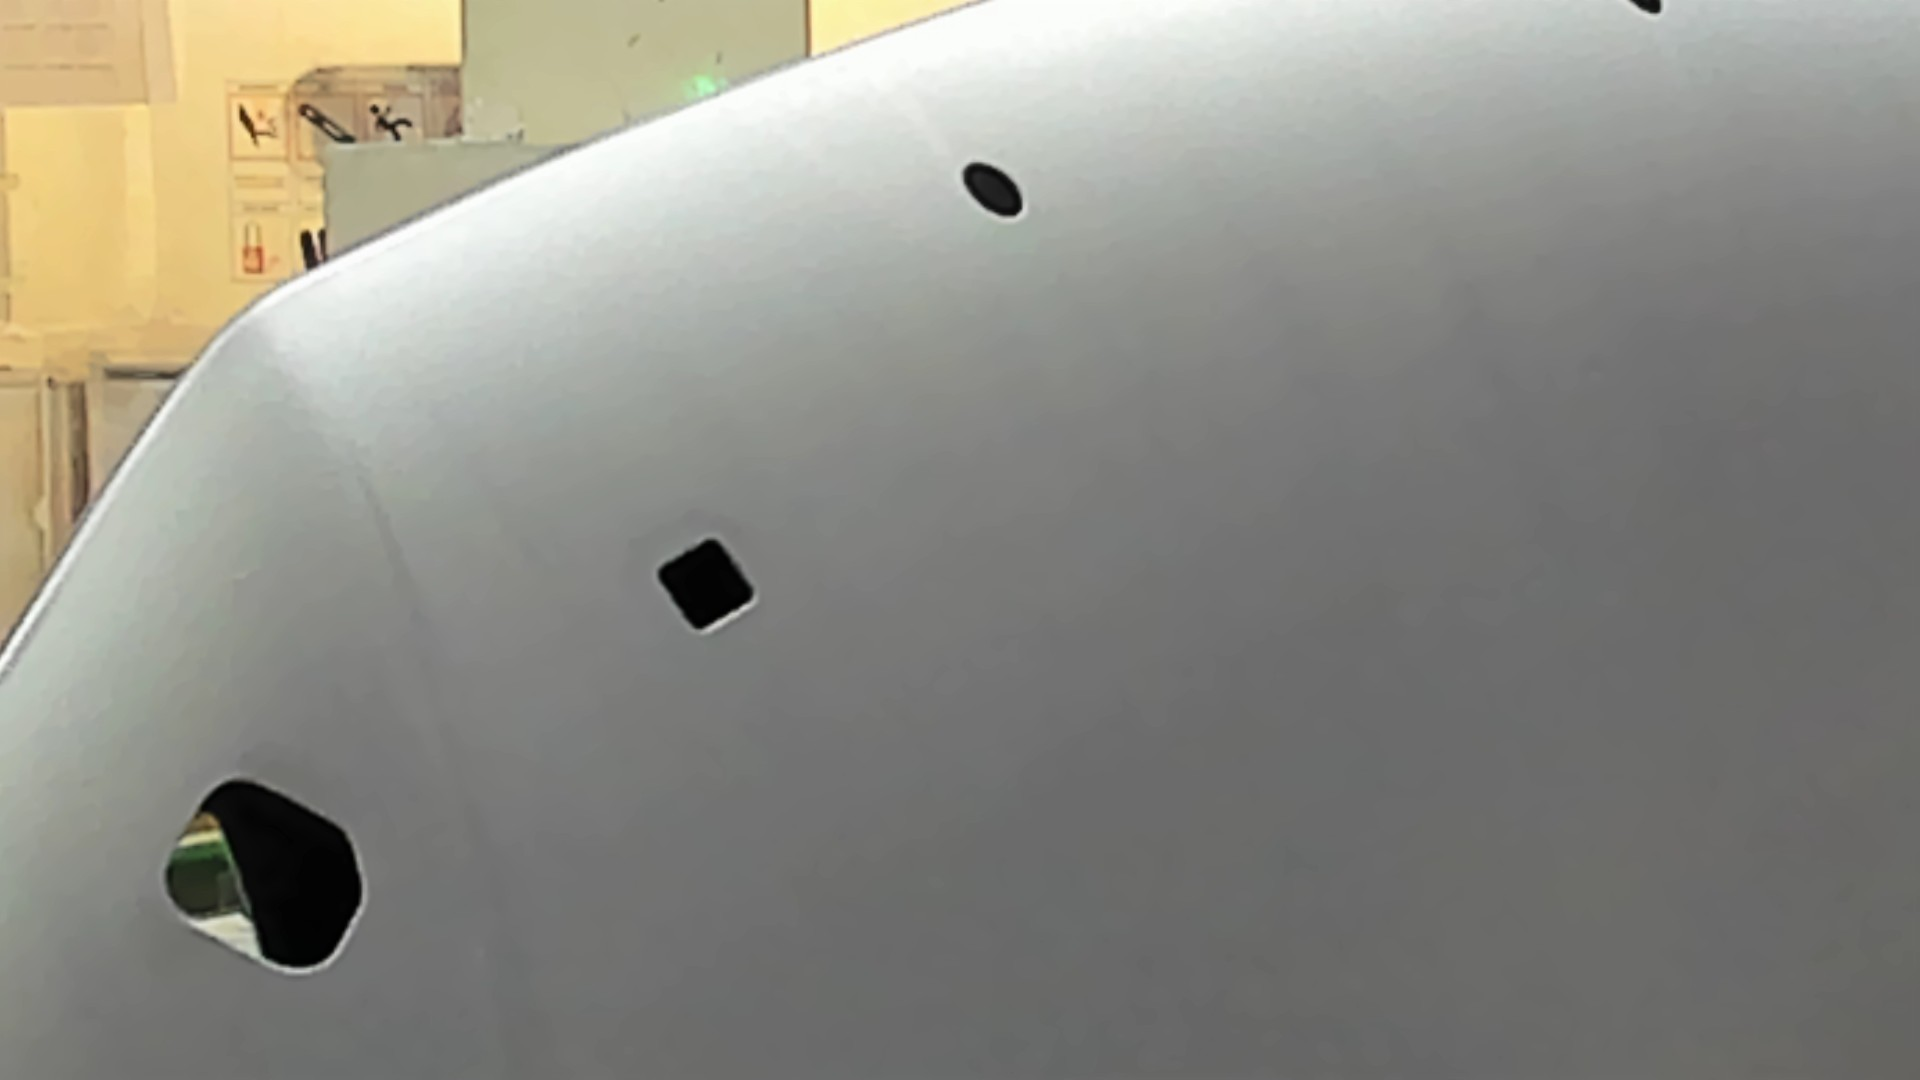chico: (939, 153, 1059, 237)
grande: (120, 752, 410, 994)
mediano: (628, 527, 789, 646)
